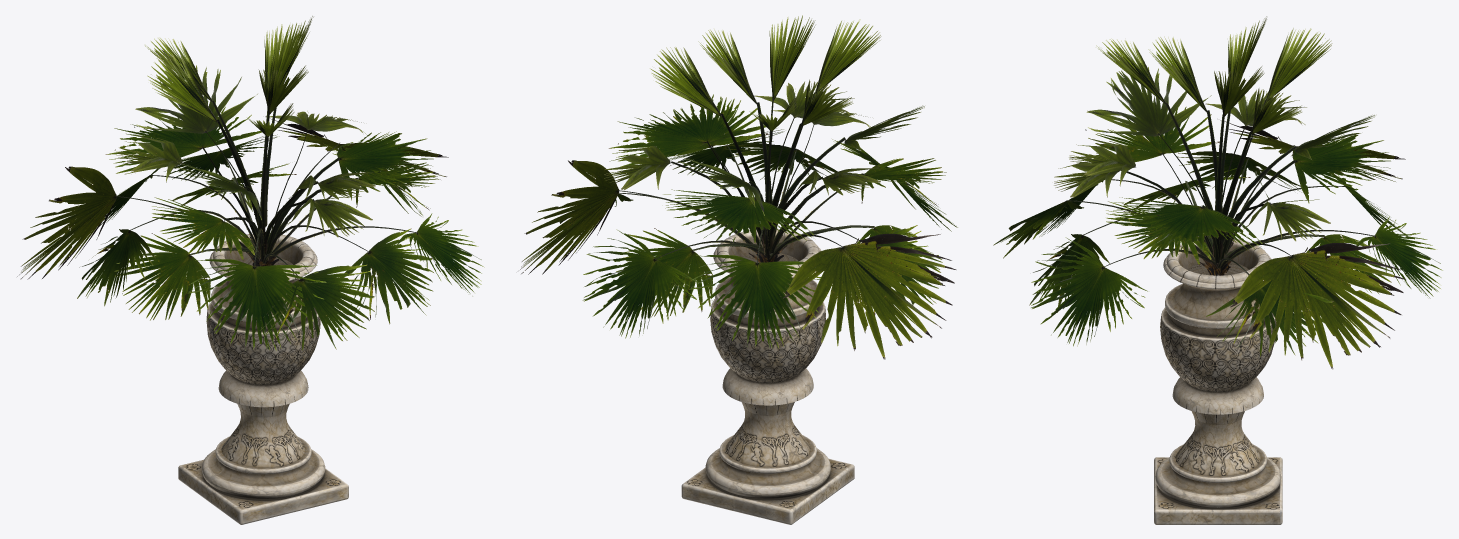
Rendered from vase Flower Pot .fbx.
3 views of the same model, side by side, from view 1: azimuth 30°, elevation 25°; view 2: azimuth 150°, elevation 25°; view 3: azimuth 270°, elevation 25° (orthographic).
Visible parts, largest first — view 1: 03_1, 03, vase_Flower_Pot_; view 2: 03_1, 03, vase_Flower_Pot_; view 3: 03, vase_Flower_Pot_, 03_1.
Boxes of the visible parts, bbox=[...] form: 03_1: bbox=[17, 23, 438, 350]; 03: bbox=[77, 16, 484, 350]; vase_Flower_Pot_: bbox=[178, 233, 348, 524]; 03_1: bbox=[543, 19, 957, 359]; 03: bbox=[520, 15, 946, 348]; vase_Flower_Pot_: bbox=[681, 229, 854, 524]; 03: bbox=[993, 28, 1408, 369]; vase_Flower_Pot_: bbox=[1154, 238, 1282, 524]; 03_1: bbox=[1029, 16, 1442, 356].
Size of the model in its own units: 173 by 178 by 162.
Materials: 2 (2 with a texture image).
